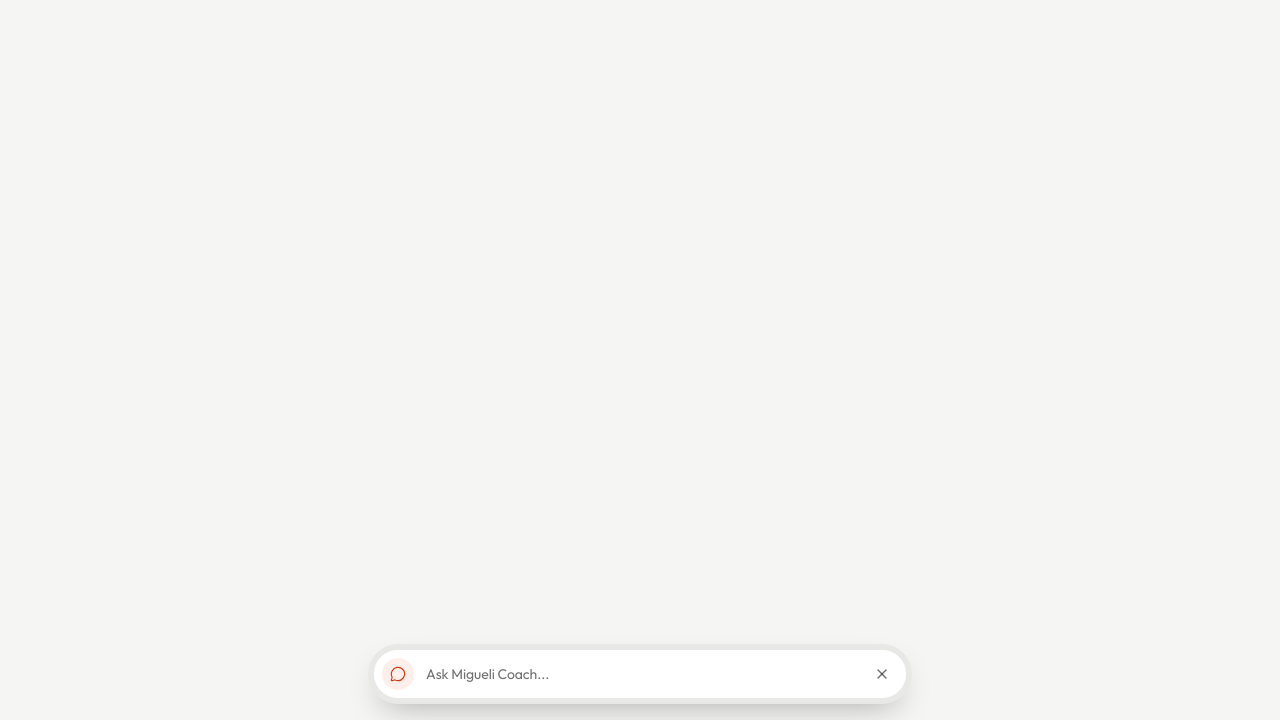
Test: CoachChatView › shows the launcher bar and opens the panel without focusing the input
Click the button with test id "coach-launcher" at (398, 674), box [374,650,866,698]
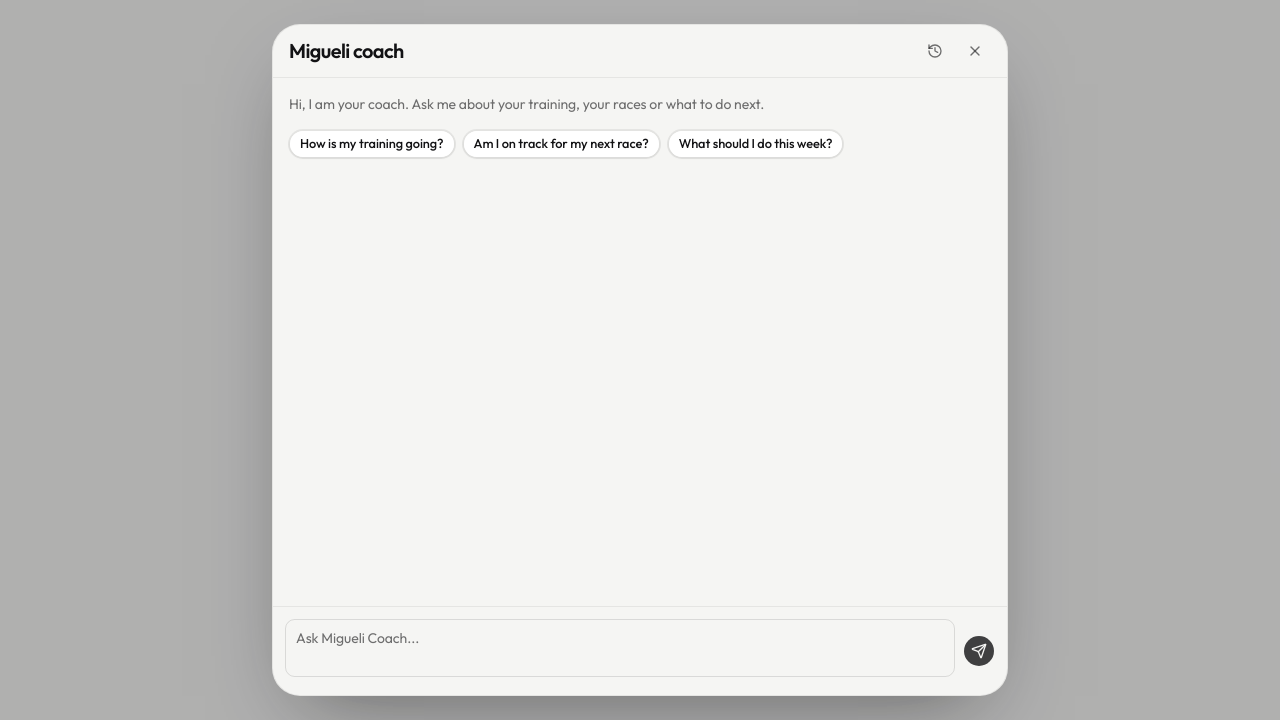
Check: the dialog with test id "coach-panel" is shown, box [272,24,1008,696]
